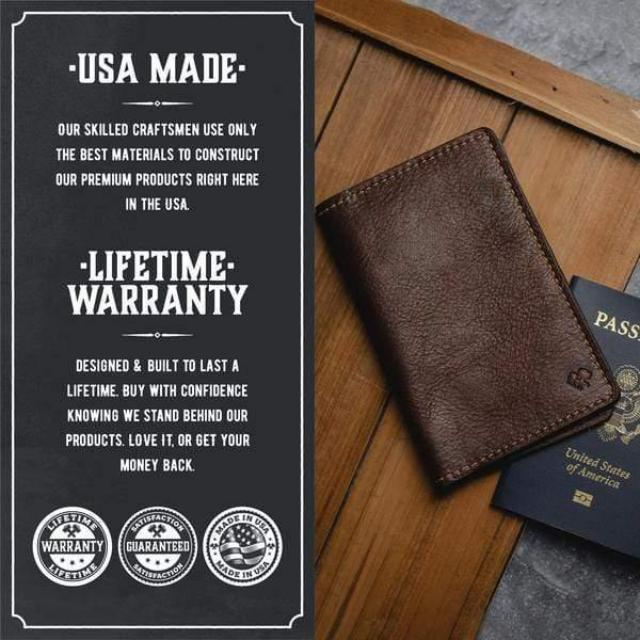wallet: (308, 125, 624, 512)
